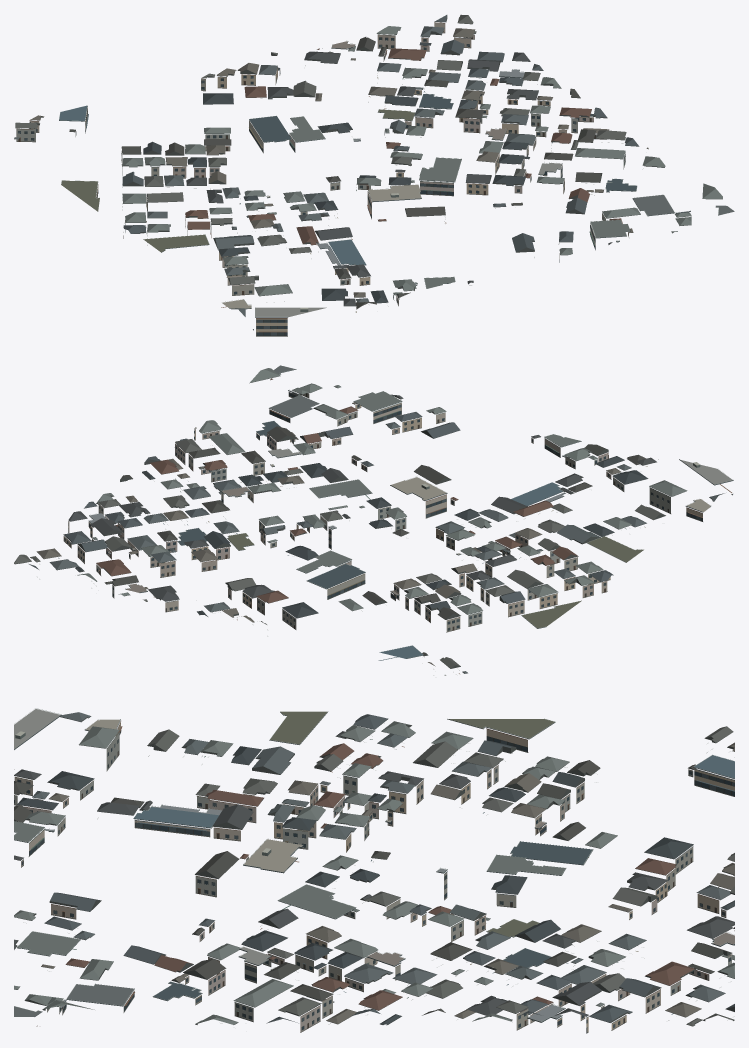
3 views of the same model, one above another, from view 1: azimuth 30°, elevation 25°; view 2: azimuth 150°, elevation 25°; view 3: azimuth 270°, elevation 25° (orthographic). The views are drawn at different scales.
Visible parts, largest first — view 1: r3-c0; view 2: r3-c0; view 3: r3-c0.
Part boxes in pixels (left/top/right/bottom): r3-c0: left=14, top=14, right=734, bottom=336; r3-c0: left=14, top=365, right=733, bottom=675; r3-c0: left=14, top=708, right=734, bottom=1033.
Size of the model in its own units: 250 by 12.91 by 250.
